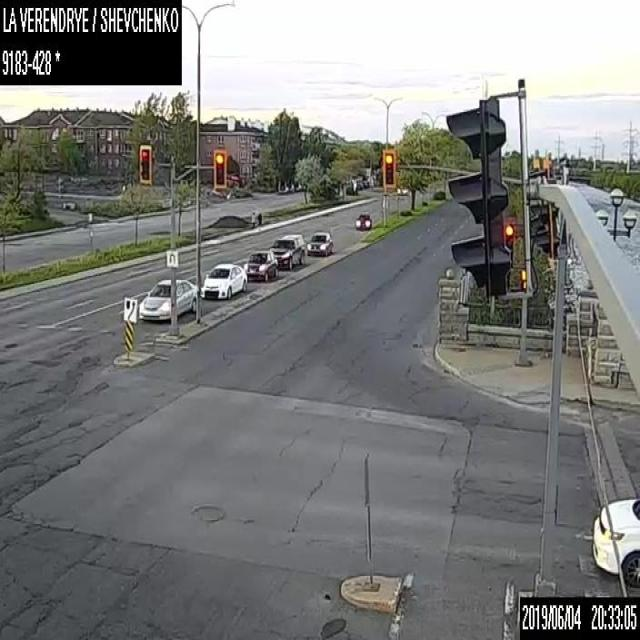pedestrian: (256, 210, 262, 228), (250, 211, 255, 228)
vehicle: (590, 494, 639, 590), (138, 277, 196, 320), (200, 262, 247, 298), (268, 232, 305, 268), (244, 249, 278, 282), (306, 230, 333, 256), (354, 211, 372, 229), (278, 184, 288, 192), (285, 183, 294, 191)
